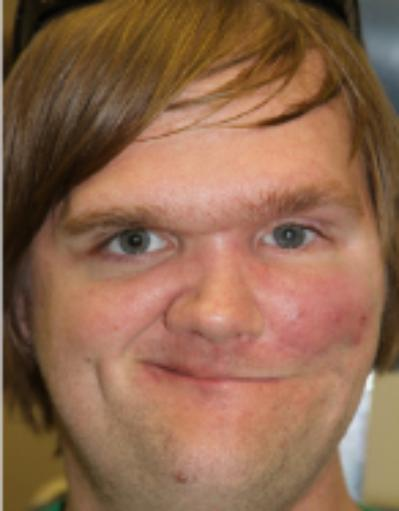left_eye: (259, 224, 333, 258)
left_lip_corner: (263, 366, 298, 392)
right_eye: (88, 227, 179, 265)
right_lip_corner: (133, 352, 156, 376)
